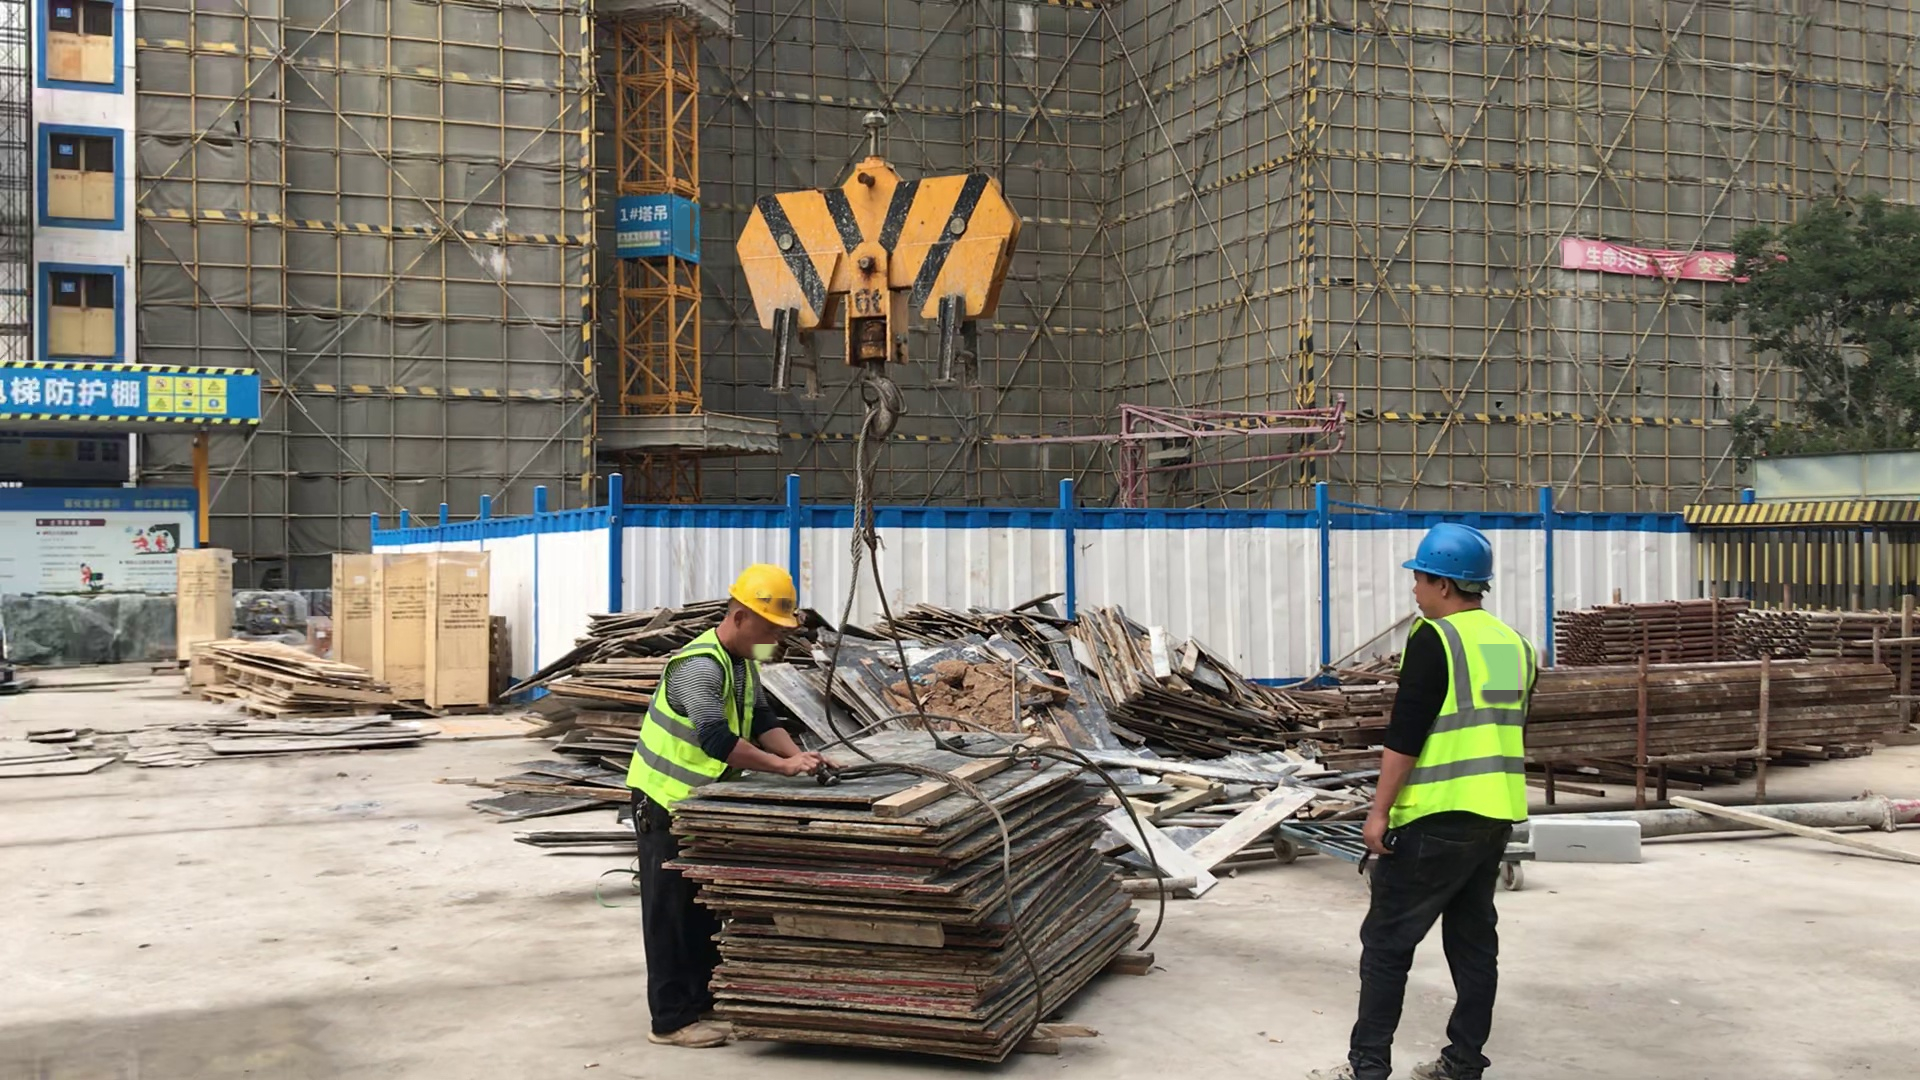board: (672, 757, 1141, 1061)
helmet: (1402, 523, 1496, 587), (728, 564, 798, 627)
hook: (731, 154, 1018, 440)
person: (1312, 524, 1535, 1080), (625, 563, 828, 1046)
scaffold: (1569, 598, 1920, 708)
slogan: (3, 359, 257, 416), (1562, 235, 1738, 281), (618, 230, 663, 250)
vest: (1376, 609, 1531, 835), (629, 627, 767, 824)
